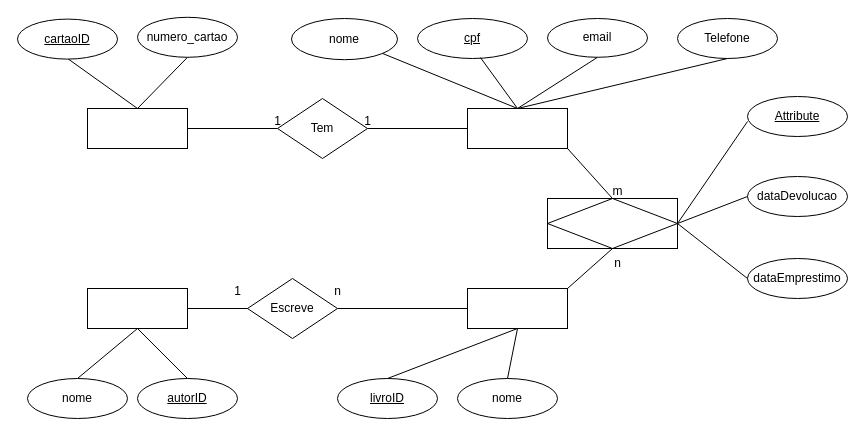
This 865x437 diagram has some shape labels left out. The shapes that lost their labels are listed below. From the top down, each one's centre as x and y in pixels, then its label:
At (x=137, y=128): "Cartoes".
At (x=517, y=128): "Membros".
At (x=612, y=223): "Emprestimo".
At (x=137, y=308): "Autores".
At (x=517, y=308): "Livros".
